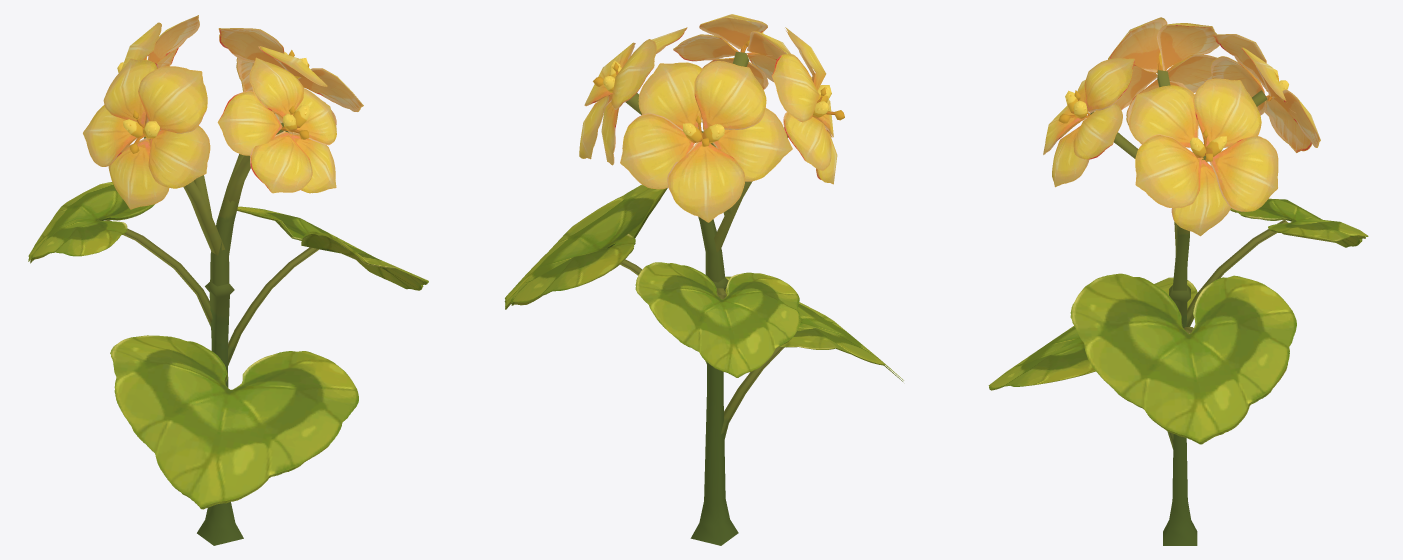
Rendered from yellowFlower.glb.
The picture shows the model from 3 angles, left to right: view 1: azimuth 30°, elevation 25°; view 2: azimuth 150°, elevation 25°; view 3: azimuth 270°, elevation 25°; orthographic projection. The views are drawn at different scales.
Parts seen in each view (by area): view 1: Property_Ani_Flower_QingxinBase_02_Vo; view 2: Property_Ani_Flower_QingxinBase_02_Vo; view 3: Property_Ani_Flower_QingxinBase_02_Vo.
Boxes of the visible parts, x1,y1,x2,y2 form: Property_Ani_Flower_QingxinBase_02_Vo: (28,15,428,545); Property_Ani_Flower_QingxinBase_02_Vo: (504,14,903,545); Property_Ani_Flower_QingxinBase_02_Vo: (988,17,1368,545).
Size of the model in its own units: 0.5777 by 0.7531 by 0.5807.
Materials: 1 (1 with a texture image).
